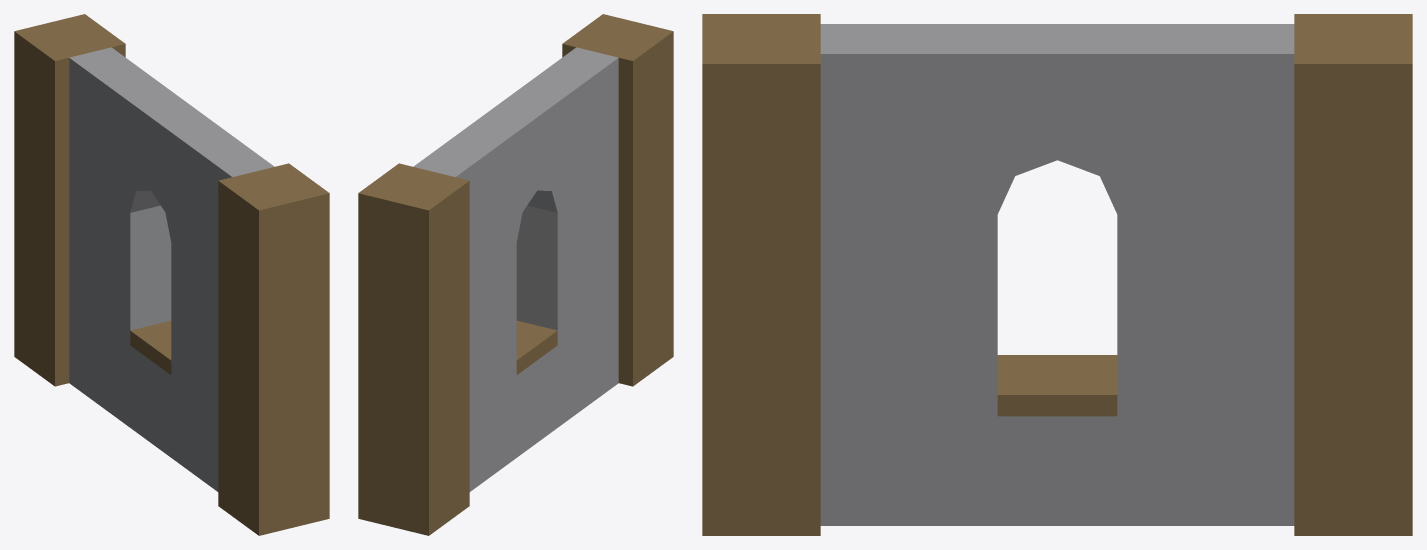
File: Wood_Window_Round_Sill_01.obj
3 renders of one model, left to right at view 1: azimuth 30°, elevation 25°; view 2: azimuth 150°, elevation 25°; view 3: azimuth 270°, elevation 25°, orthographic. The views are drawn at different scales.
Parts seen in each view (by area): view 1: Mesh1_Wood_Window_Round_Sill_Model; view 2: Mesh1_Wood_Window_Round_Sill_Model; view 3: Mesh1_Wood_Window_Round_Sill_Model.
Boxes of the visible parts, x1,y1,x2,y2 form: Mesh1_Wood_Window_Round_Sill_Model: [14, 14, 329, 535]; Mesh1_Wood_Window_Round_Sill_Model: [358, 14, 673, 535]; Mesh1_Wood_Window_Round_Sill_Model: [702, 14, 1412, 535].
Size of the model in its own units: 0.5 by 2.2 by 3.
